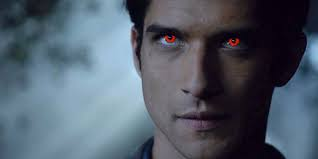e.other: (161, 34, 175, 48)
